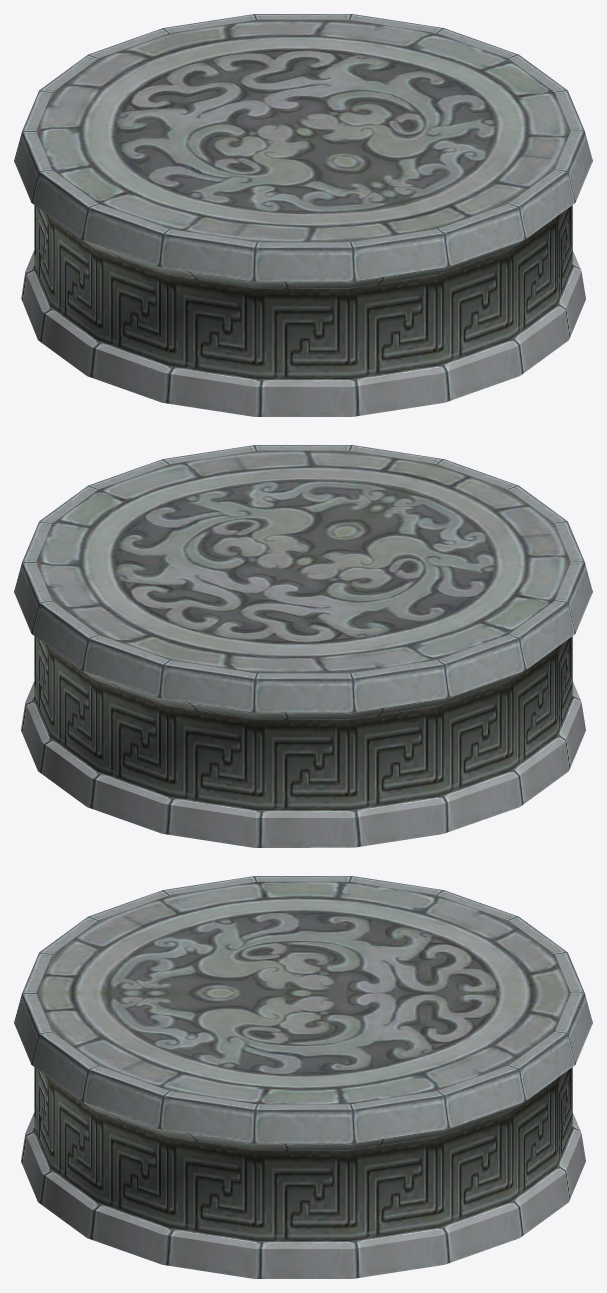
The picture shows the model from 3 angles, top to bottom: view 1: azimuth 30°, elevation 25°; view 2: azimuth 150°, elevation 25°; view 3: azimuth 270°, elevation 25°; orthographic projection.
Visible parts, largest first — view 1: z_jz_dm_dj_04; view 2: z_jz_dm_dj_04; view 3: z_jz_dm_dj_04.
Part boxes in pixels (x1,y1,x2,y2): z_jz_dm_dj_04: (14, 14, 592, 416); z_jz_dm_dj_04: (14, 445, 592, 847); z_jz_dm_dj_04: (14, 876, 592, 1278).
Bounding box in the file's own units: 244 × 79.35 × 247.
